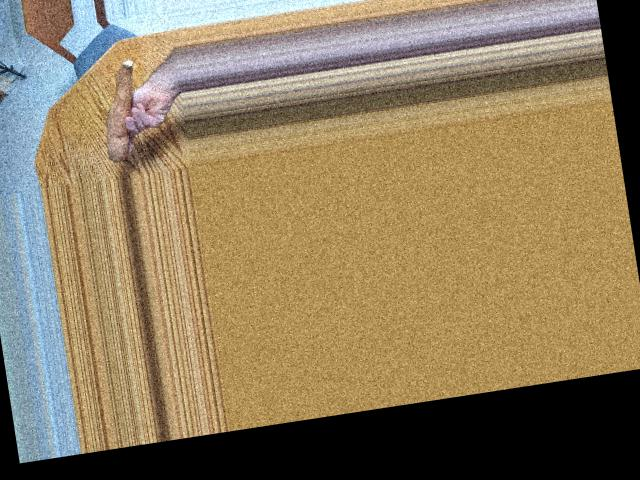sweet_potato: (92, 58, 150, 164)
